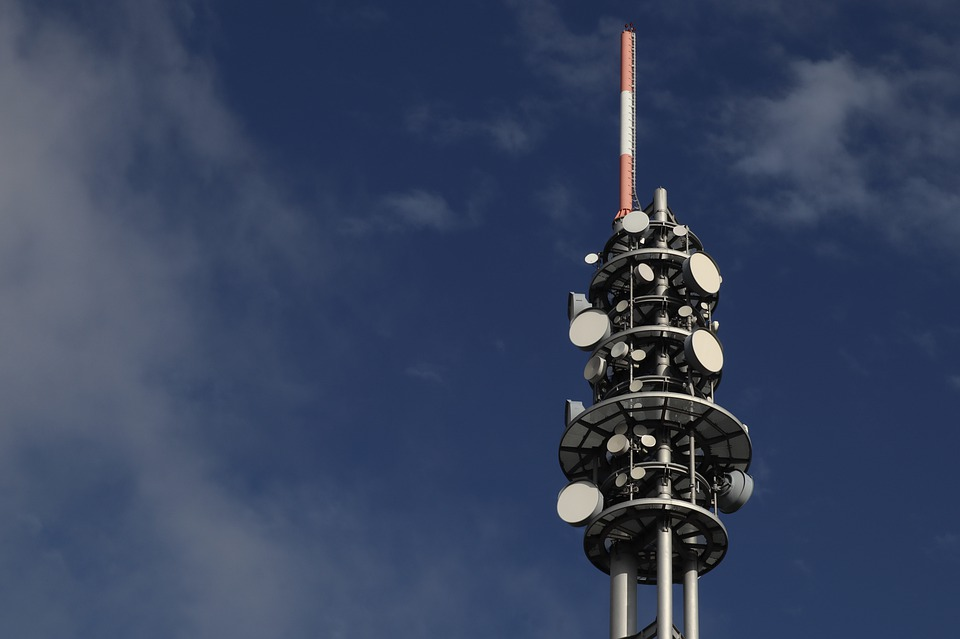b: (557, 478, 603, 526), (683, 252, 723, 299), (688, 330, 726, 377), (568, 308, 612, 347), (717, 470, 755, 514), (621, 209, 649, 237), (582, 358, 608, 380), (607, 435, 630, 455), (634, 264, 654, 284), (611, 342, 629, 358), (633, 423, 649, 438), (582, 252, 601, 264), (614, 474, 627, 488), (677, 304, 691, 317), (614, 300, 629, 312), (643, 434, 655, 448), (630, 467, 645, 478), (631, 349, 645, 360), (674, 225, 686, 236)
